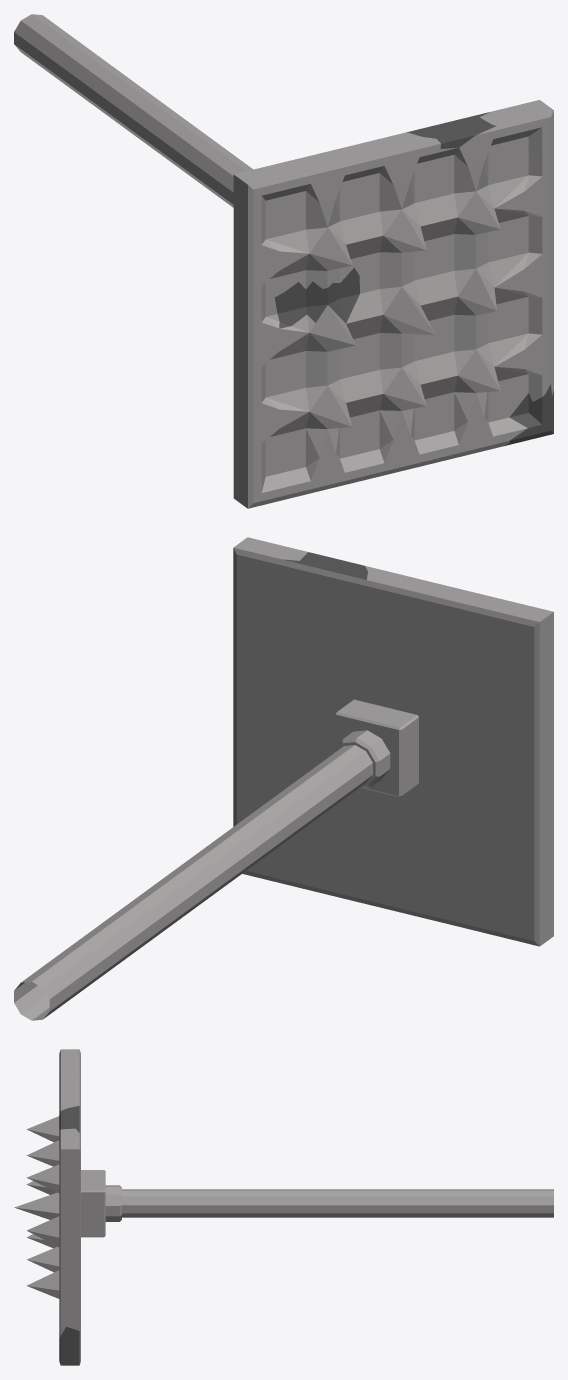
The model's file is SMLMetalSpikeTrapWall.fbx.
3 views of the same model, one above another, from view 1: azimuth 30°, elevation 25°; view 2: azimuth 150°, elevation 25°; view 3: azimuth 270°, elevation 25° (orthographic). The views are drawn at different scales.
Visible parts, largest first — view 1: SMLMetalSpikeTrapWall; view 2: SMLMetalSpikeTrapWall; view 3: SMLMetalSpikeTrapWall.
Boxes of the visible parts, <box> form: SMLMetalSpikeTrapWall: <box>14,14,553,508</box>; SMLMetalSpikeTrapWall: <box>14,537,553,1020</box>; SMLMetalSpikeTrapWall: <box>14,1049,553,1365</box>.
Bounding box in the file's own units: 115 × 116 × 262.
